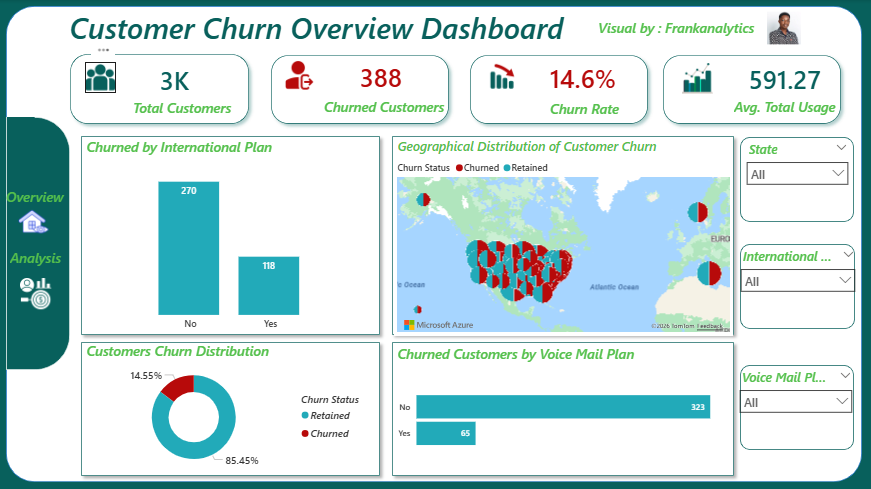

The page's visual inventory and layout, read from the dashboard file:
{"tool":"powerbi","page":{"name":"Churn Overview","canvas":[1280,720],"ordinal":3},"visuals":[{"type":"shape","box":[10.3,10.3,1257.8,699.4],"z":0},{"type":"shape","box":[10.3,173.4,94,371.8],"z":1000},{"type":"shape","box":[95.5,72.5,280.7,120.5],"z":2000},{"type":"shape","box":[390.9,74,279.2,119],"z":3000},{"type":"shape","box":[683.3,74,279.2,119],"z":4000},{"type":"shape","box":[966.9,74,279.2,119],"z":5000},{"type":"shape","box":[111.7,192.5,457,310],"z":6000},{"type":"shape","box":[568.7,192.5,520.2,310],"z":7000},{"type":"shape","box":[111.7,495.2,457,214.5],"z":8000},{"type":"shape","box":[568.7,495.2,520.2,214.5],"z":9000},{"type":"donutChart","title":"Customers Churn Distribution","fields":{"Y":["My Measures.Total Customers"],"Category":["churn-bigml-80.Churn"]},"box":[123.4,502.5,433.5,196.9],"z":10000},{"type":"azureMap","title":"Geographical Distribution of Customer Churn","fields":{"Category":["churn-bigml-80.State"],"Size":["My Measures.Churned Customers"],"Series":["churn-bigml-80.Churn"]},"box":[580.4,202.8,498.1,292.4],"z":11000},{"type":"clusteredColumnChart","title":"Churned by International Plan","fields":{"Category":["churn-bigml-80.International Plan"],"Y":["My Measures.Churned Customers"]},"box":[123.4,202.8,433.5,292.4],"z":12000},{"type":"clusteredBarChart","fields":{"Category":["churn-bigml-80.Voice Mail Plan"],"Y":["My Measures.Churned Customers"]},"box":[580.4,506.9,498.1,189.6],"z":13000},{"type":"cardVisual","fields":{"Data":["My Measures.Total Customers"]},"box":[207.2,77.9,122,79.3],"z":14000},{"type":"cardVisual","fields":{"Data":["My Measures.Churned Customers"]},"box":[501.1,73.5,135.2,79.3],"z":15000},{"type":"cardVisual","fields":{"Data":["My Measures.Churn Rate"]},"box":[780.2,73.5,167.5,82.3],"z":16000},{"type":"cardVisual","fields":{"Data":["My Measures.Avg Total Usage"]},"box":[1072.7,73.5,173.4,85.2],"z":17000},{"type":"shape","title":"Churned Customers","box":[477.6,144,186.6,35.3],"z":18000},{"type":"shape","title":"Total Customers","box":[196.9,145.5,186.6,39.7],"z":19000},{"type":"shape","title":"Churn Rate","box":[809.6,146.9,123.4,35.3],"z":20000},{"type":"shape","title":"Avg. Total Usage","box":[1080,144,158.7,35.3],"z":21000},{"type":"image","box":[126.4,92.6,45,45],"z":22000},{"type":"image","box":[418.8,89.6,45,45],"z":23000},{"type":"image","box":[717.1,91.1,45,45],"z":24000},{"type":"image","box":[1003.6,94,45,45],"z":25000},{"type":"shape","box":[1088.8,202.8,167.5,124.9],"z":26000},{"type":"slicer","fields":{"Values":["churn-bigml-80.State"]},"box":[1088.8,202.8,169,124.9],"z":27000},{"type":"shape","box":[1088.8,360,169,124.9],"z":28000},{"type":"shape","box":[1088.8,537.8,167.5,124.9],"z":29000},{"type":"slicer","fields":{"Values":["churn-bigml-80.International Plan"]},"box":[1080,360,188.1,124.9],"z":30000},{"type":"slicer","fields":{"Values":["churn-bigml-80.Voice Mail Plan"]},"box":[1078.5,537.8,185.1,124.9],"z":31000},{"type":"textbox","box":[35.3,7.3,862.5,79.3],"z":32000},{"type":"shape","title":"Visual by : Frankanalytics","box":[880.2,27.9,242.4,35.3],"z":33000},{"type":"image","box":[1128.5,17.6,50,50],"z":34000},{"type":"image","box":[30.9,410,45.6,45.6],"z":35000},{"type":"shape","title":"Analysis","box":[16.2,365.9,85.2,35.3],"z":36000},{"type":"image","box":[27.9,304.2,45.6,45.6],"z":37000},{"type":"shape","title":"Overview","box":[10.3,276.2,94,35.3],"z":38000}]}

Visuals, with their boxes in screenshot pixels (x1, y1, x2, y2), scaled from the page's 1280x720 canvas onto the 871x489 screenshot:
shape: <bbox>7, 7, 863, 482</bbox>
shape: <bbox>7, 118, 71, 370</bbox>
shape: <bbox>65, 49, 256, 131</bbox>
shape: <bbox>266, 50, 456, 131</bbox>
shape: <bbox>465, 50, 655, 131</bbox>
shape: <bbox>658, 50, 848, 131</bbox>
shape: <bbox>76, 131, 387, 341</bbox>
shape: <bbox>387, 131, 741, 341</bbox>
shape: <bbox>76, 336, 387, 482</bbox>
shape: <bbox>387, 336, 741, 482</bbox>
"Customers Churn Distribution" donutChart: <bbox>84, 341, 379, 475</bbox>
"Geographical Distribution of Customer Churn" azureMap: <bbox>395, 138, 734, 336</bbox>
"Churned by International Plan" clusteredColumnChart: <bbox>84, 138, 379, 336</bbox>
clusteredBarChart - churn-bigml-80.Voice Mail Plan x My Measures.Churned Customers: <bbox>395, 344, 734, 473</bbox>
cardVisual - My Measures.Total Customers: <bbox>141, 53, 224, 107</bbox>
cardVisual - My Measures.Churned Customers: <bbox>341, 50, 433, 104</bbox>
cardVisual - My Measures.Churn Rate: <bbox>531, 50, 645, 106</bbox>
cardVisual - My Measures.Avg Total Usage: <bbox>730, 50, 848, 108</bbox>
"Churned Customers" shape: <bbox>325, 98, 452, 122</bbox>
"Total Customers" shape: <bbox>134, 99, 261, 126</bbox>
"Churn Rate" shape: <bbox>551, 100, 635, 124</bbox>
"Avg. Total Usage" shape: <bbox>735, 98, 843, 122</bbox>
image: <bbox>86, 63, 117, 93</bbox>
image: <bbox>285, 61, 316, 91</bbox>
image: <bbox>488, 62, 519, 92</bbox>
image: <bbox>683, 64, 714, 94</bbox>
shape: <bbox>741, 138, 855, 223</bbox>
slicer - churn-bigml-80.State: <bbox>741, 138, 856, 223</bbox>
shape: <bbox>741, 244, 856, 329</bbox>
shape: <bbox>741, 365, 855, 450</bbox>
slicer - churn-bigml-80.International Plan: <bbox>735, 244, 863, 329</bbox>
slicer - churn-bigml-80.Voice Mail Plan: <bbox>734, 365, 860, 450</bbox>
textbox: <bbox>24, 5, 611, 59</bbox>
"Visual by : Frankanalytics" shape: <bbox>599, 19, 764, 43</bbox>
image: <bbox>768, 12, 802, 46</bbox>
image: <bbox>21, 278, 52, 309</bbox>
"Analysis" shape: <bbox>11, 249, 69, 272</bbox>
image: <bbox>19, 207, 50, 238</bbox>
"Overview" shape: <bbox>7, 188, 71, 212</bbox>
